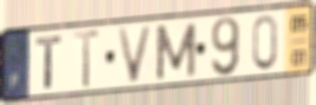0: (251, 13, 280, 73)
9: (210, 14, 242, 78)
M: (153, 21, 198, 83)
T: (71, 27, 102, 91), (34, 34, 65, 91)
V: (115, 24, 155, 86)
